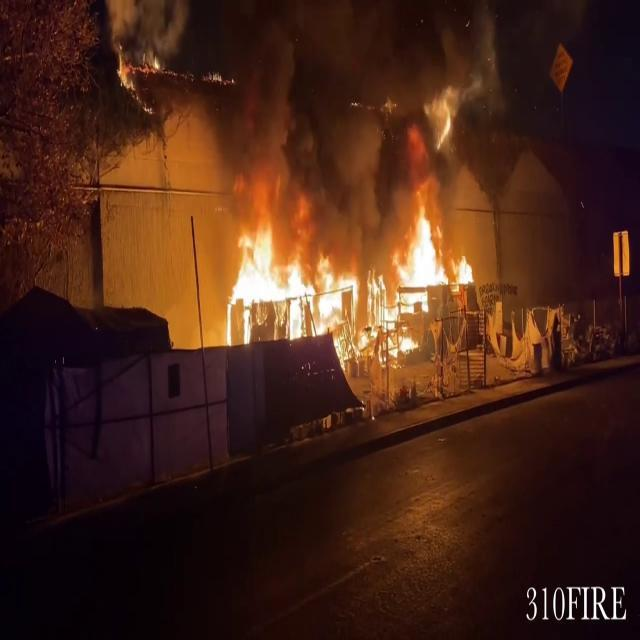Fire: (215, 198, 475, 372), (396, 199, 476, 294)
Smoke: (97, 1, 501, 243)
